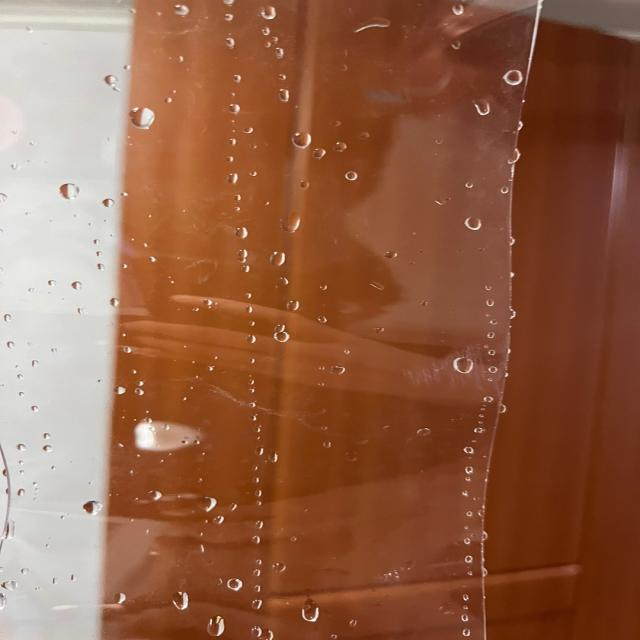raindrop: (44, 180, 88, 201), (447, 351, 476, 381), (208, 32, 244, 56), (276, 207, 307, 234), (198, 611, 230, 634), (464, 93, 496, 116), (225, 221, 256, 244), (125, 111, 164, 129), (342, 14, 388, 29), (255, 0, 283, 23), (164, 0, 191, 23), (284, 126, 311, 149), (265, 248, 292, 270), (500, 65, 522, 91), (94, 198, 125, 214), (440, 0, 471, 16), (301, 146, 329, 163), (108, 590, 132, 609), (165, 594, 190, 612), (298, 604, 320, 624), (272, 275, 292, 295), (218, 10, 240, 28), (459, 463, 481, 481), (66, 285, 94, 299), (425, 191, 448, 208), (110, 382, 134, 398), (100, 68, 127, 82), (31, 430, 58, 444), (246, 624, 269, 640), (197, 495, 216, 514), (118, 333, 136, 353), (224, 66, 244, 84), (230, 245, 248, 265), (245, 599, 269, 614), (470, 216, 492, 232), (242, 334, 265, 349), (275, 326, 294, 344), (83, 502, 103, 519), (225, 188, 246, 203), (220, 102, 244, 115), (220, 169, 244, 182), (100, 296, 122, 310), (142, 488, 157, 508), (342, 170, 358, 188), (40, 278, 60, 292), (238, 286, 256, 301), (280, 304, 302, 316), (462, 444, 475, 463), (256, 29, 278, 40), (228, 577, 245, 591), (280, 88, 294, 104), (272, 51, 290, 63), (483, 276, 495, 293), (40, 446, 54, 459), (331, 138, 344, 152), (20, 485, 32, 500), (484, 362, 498, 374), (17, 440, 28, 452)
